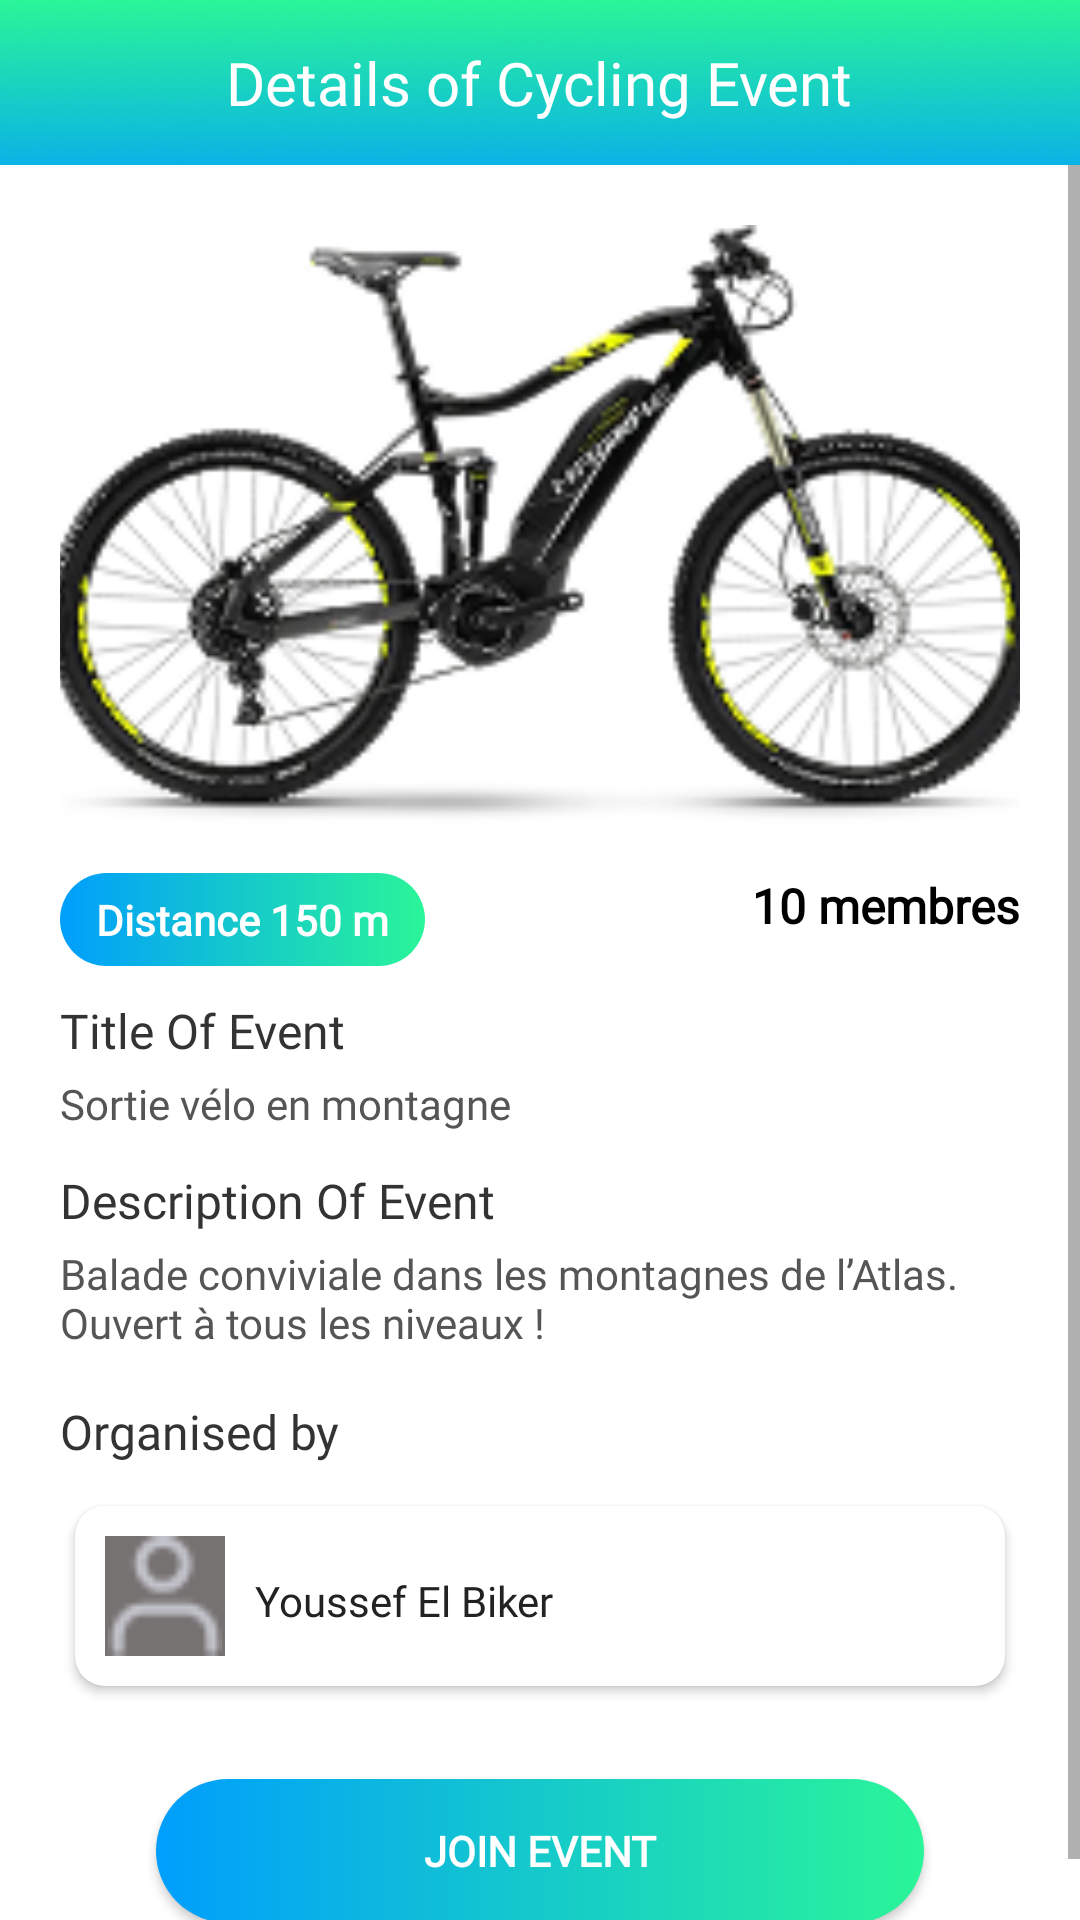

Named icons in this screenshot (1080px×1920px) and their centers, (x=x, y=y):
person: (x=165, y=1596)
